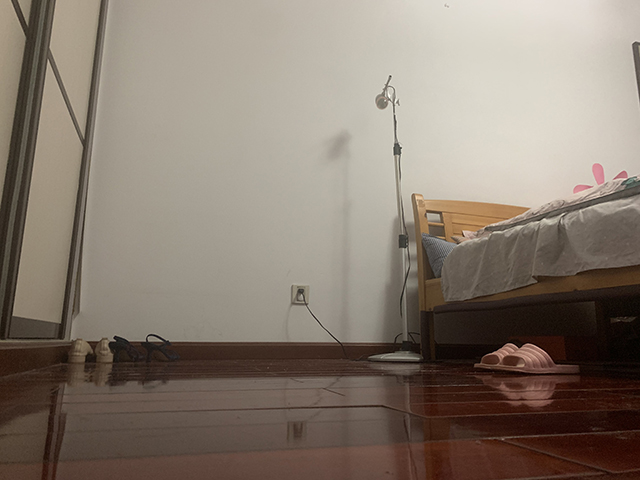bed: (410, 173, 640, 365)
cabinet: (1, 1, 109, 377)
slippers: (487, 344, 583, 376)
wire: (296, 136, 442, 364)
